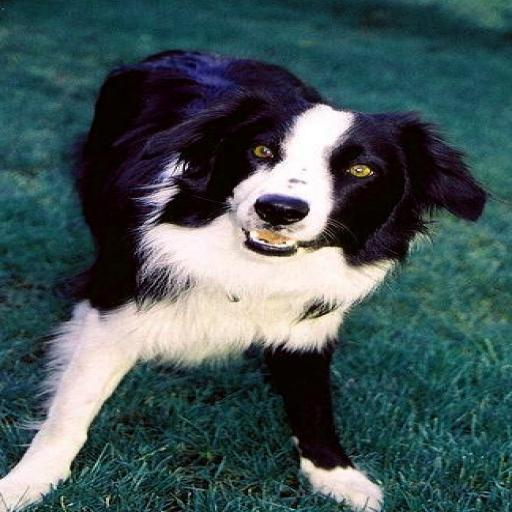dog_face: (131, 64, 495, 254)
